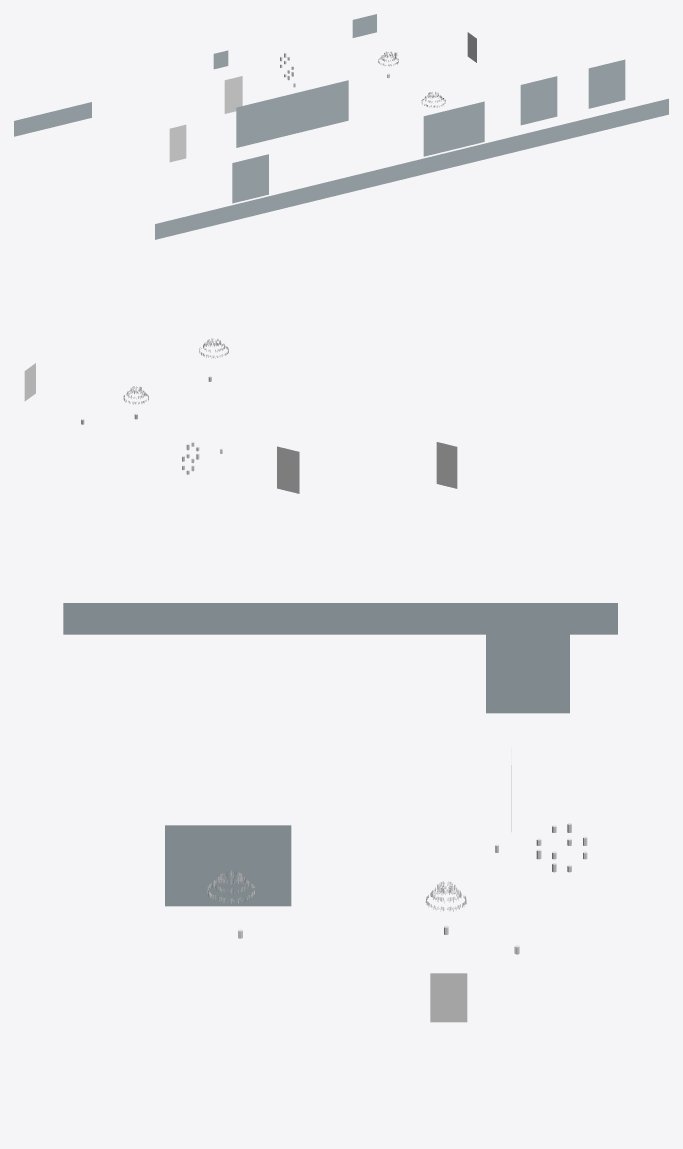
File: GLASS.glb
3 views of the same model, one above another, from view 1: azimuth 30°, elevation 25°; view 2: azimuth 150°, elevation 25°; view 3: azimuth 270°, elevation 25° (orthographic). The views are drawn at different scales.
Parts seen in each view (by area): view 1: WEB_GLASS; view 2: WEB_GLASS; view 3: WEB_GLASS.
Part boxes in pixels (x1,y1,x2,y2): WEB_GLASS: [14, 14, 668, 239]; WEB_GLASS: [24, 338, 457, 493]; WEB_GLASS: [63, 603, 617, 1022].
Size of the model in its own units: 32.59 by 2.45 by 15.51.
